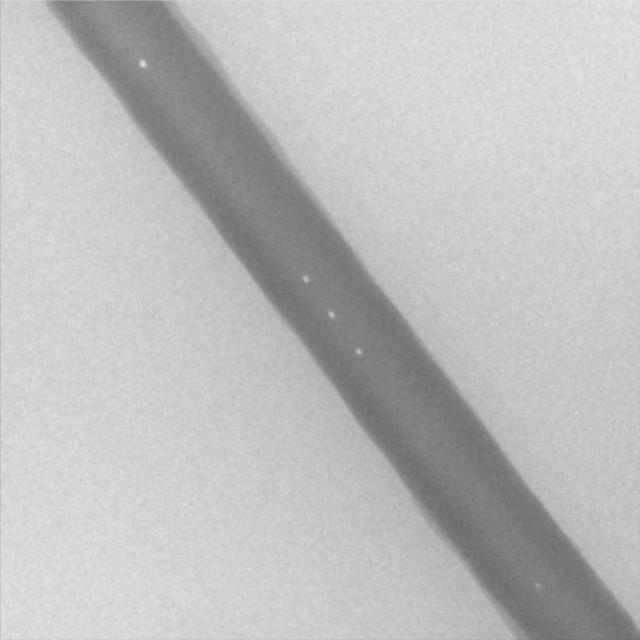air hole: (532, 579, 542, 591), (137, 57, 146, 69), (326, 308, 336, 318), (300, 272, 309, 283), (354, 345, 362, 357)
